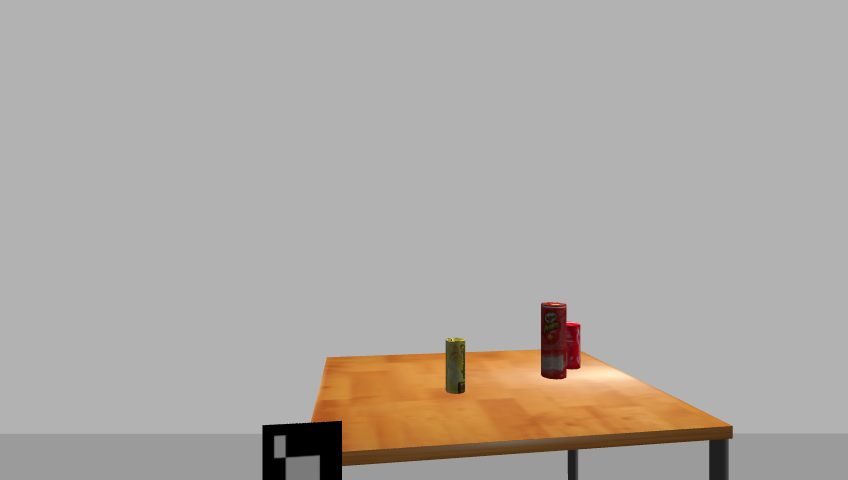aruco marker: (255, 420, 348, 480)
biscuits pack: (444, 337, 468, 395)
coke can: (562, 323, 583, 371)
dinner table: (303, 345, 742, 479)
pringles can: (538, 302, 567, 381)
